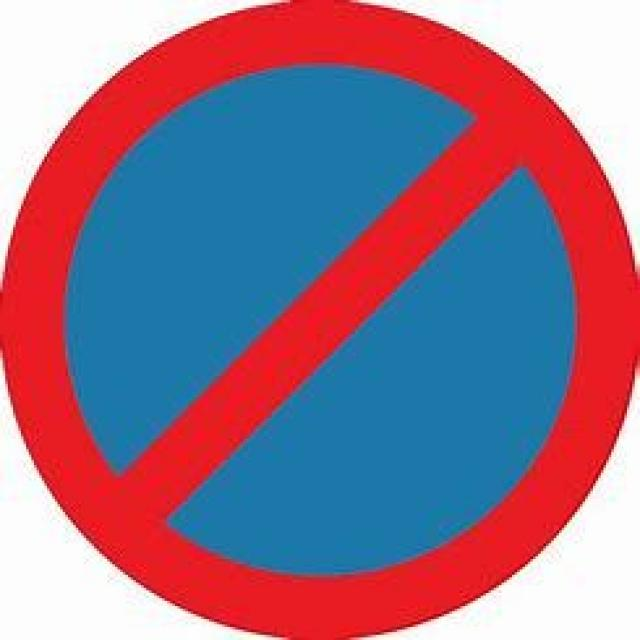NO_PARKING: (2, 0, 637, 637)
